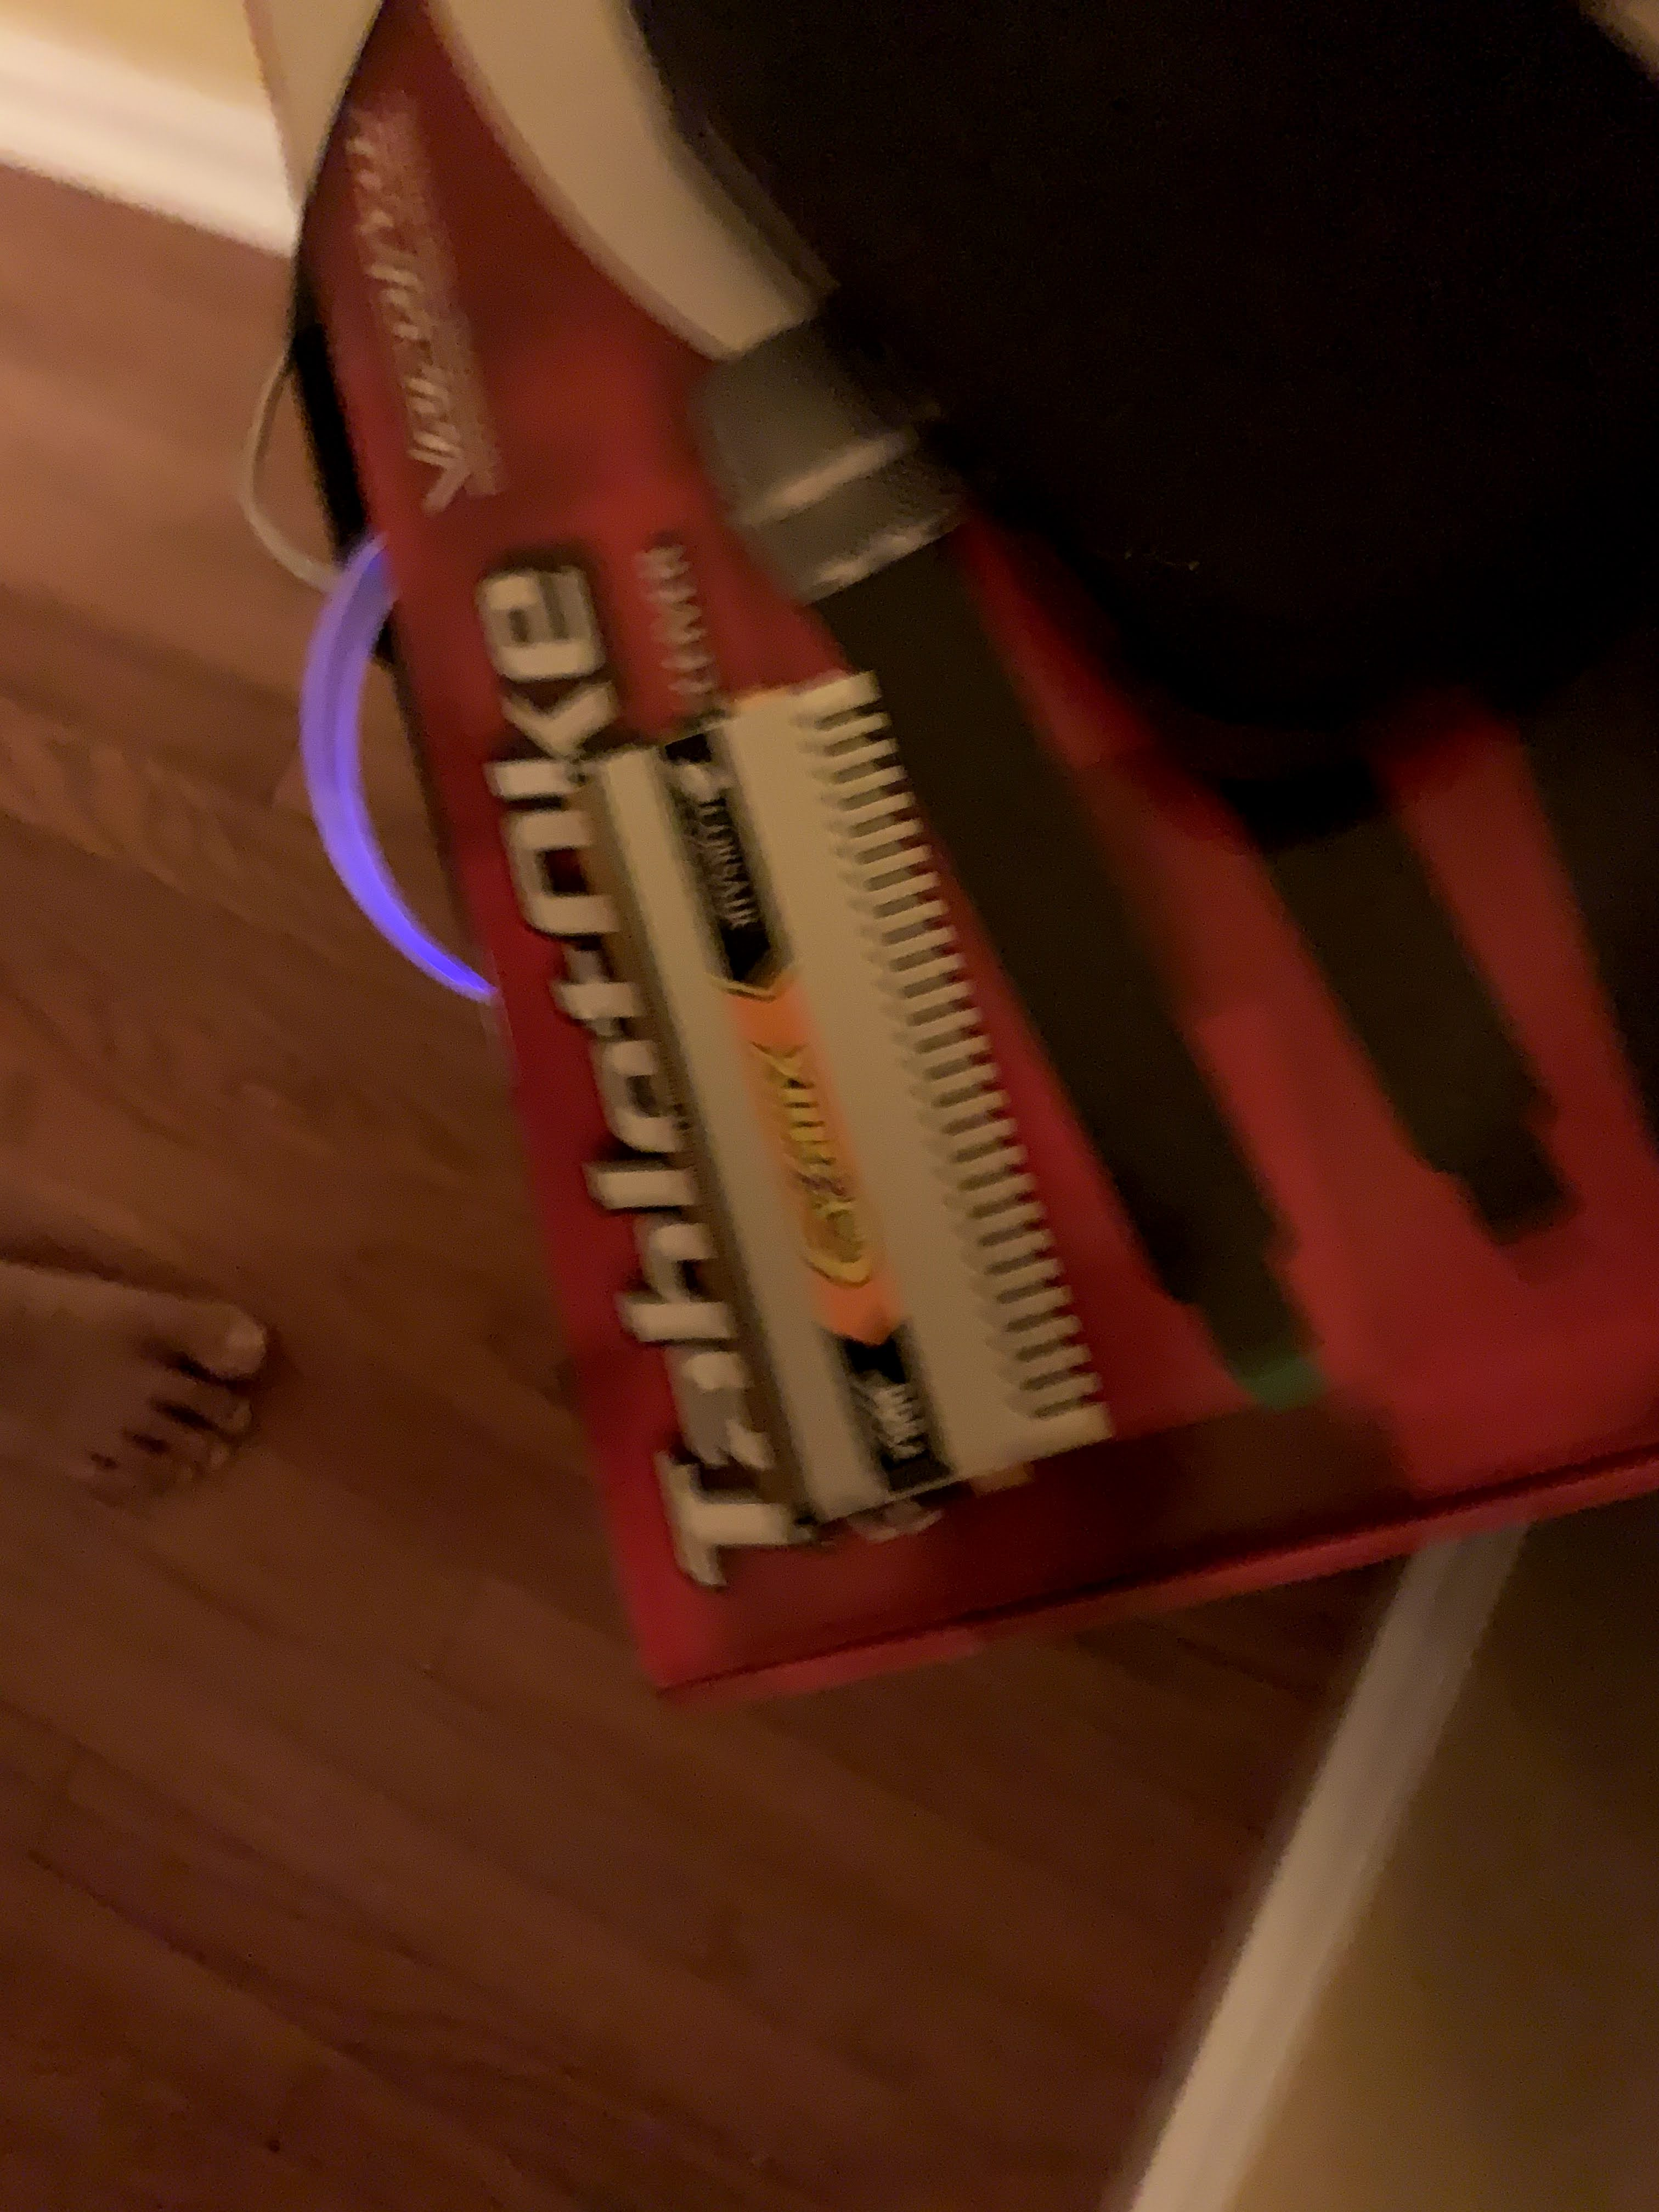Space-debris-medium: (532, 660, 1152, 1533)
